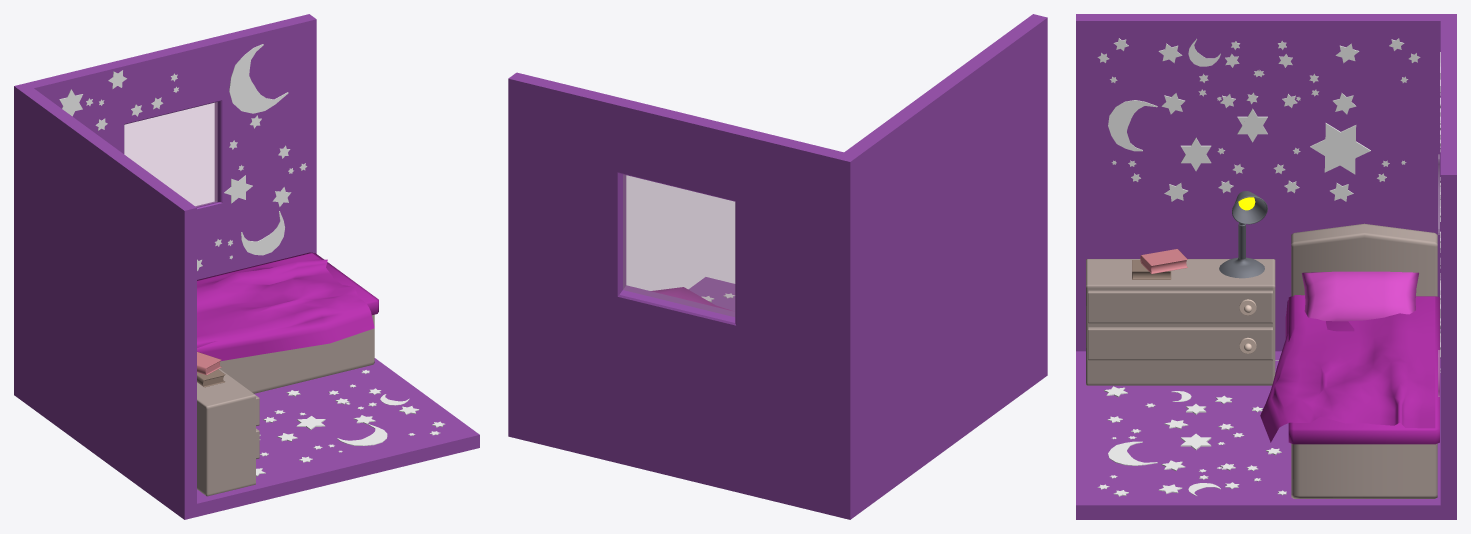
The model's file is isometric-room-kids-room.fbx.
3 views of the same model, side by side, from view 1: azimuth 30°, elevation 25°; view 2: azimuth 150°, elevation 25°; view 3: azimuth 270°, elevation 25° (orthographic). The views are drawn at different scales.
Visible parts, largest first — view 1: 128, 39, 91, 3, 139, 117; view 2: 128, 3; view 3: 128, 91, 39, 139, 28, 117, 104, 52, 78, 65.
Part boxes in pixels (x1=…): 128: x1=14, y1=14, x2=479, y2=519; 39: x1=197, y1=252, x2=378, y2=361; 91: x1=197, y1=314, x2=374, y2=496; 3: x1=124, y1=102, x2=217, y2=206; 139: x1=59, y1=70, x2=445, y2=476; 117: x1=229, y1=44, x2=409, y2=445; 128: x1=508, y1=14, x2=1047, y2=519; 3: x1=623, y1=174, x2=735, y2=316; 128: x1=1076, y1=14, x2=1456, y2=519; 91: x1=1086, y1=223, x2=1437, y2=498; 39: x1=1260, y1=295, x2=1439, y2=444; 139: x1=1097, y1=38, x2=1440, y2=496; 28: x1=1302, y1=271, x2=1418, y2=321; 117: x1=1108, y1=39, x2=1439, y2=496; 104: x1=1219, y1=191, x2=1267, y2=278; 52: x1=1140, y1=249, x2=1187, y2=273; 78: x1=1239, y1=299, x2=1256, y2=353; 65: x1=1132, y1=260, x2=1171, y2=279.
Size of the model in its own units: 204 by 204 by 204.
